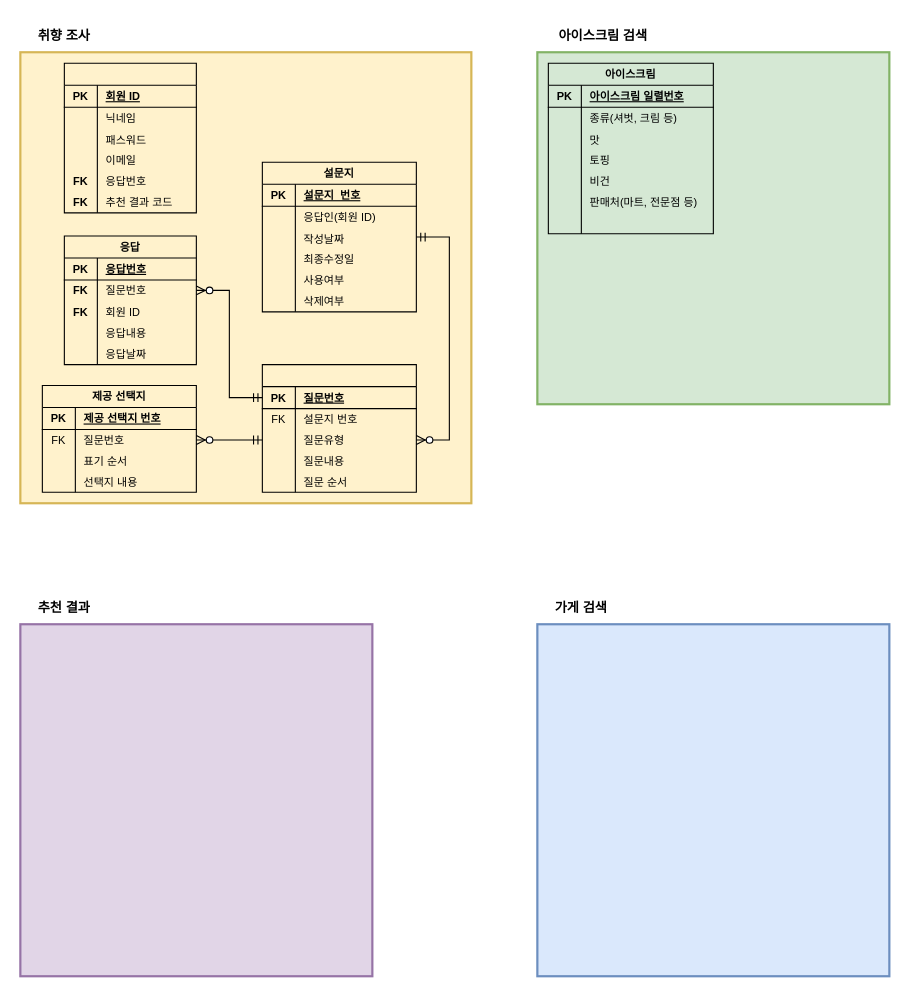
The diagram is 909 pixels wide and 996 high, and some of its shapes have lost their labels. The shapes that lost their labels are listed below. From the top down, each one's box as (x1, y1, x2, y2) in pixels, then its label:
(63, 62, 196, 213): 회원
(261, 364, 416, 492): 질문
